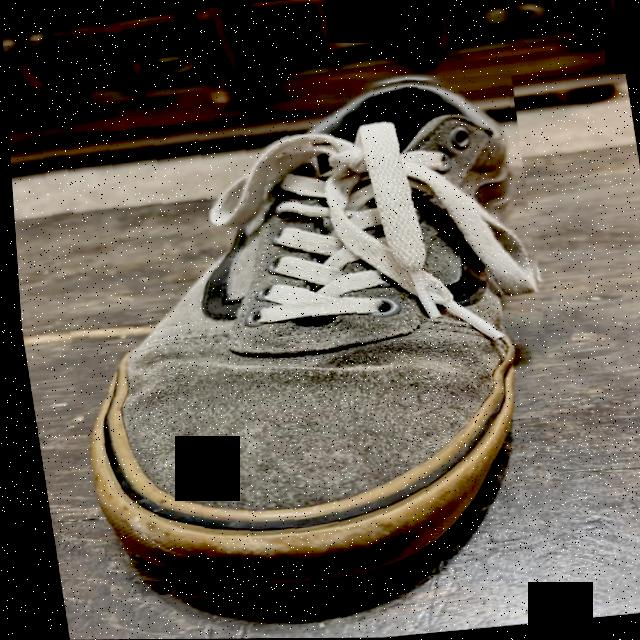shoe: (32, 63, 579, 600)
